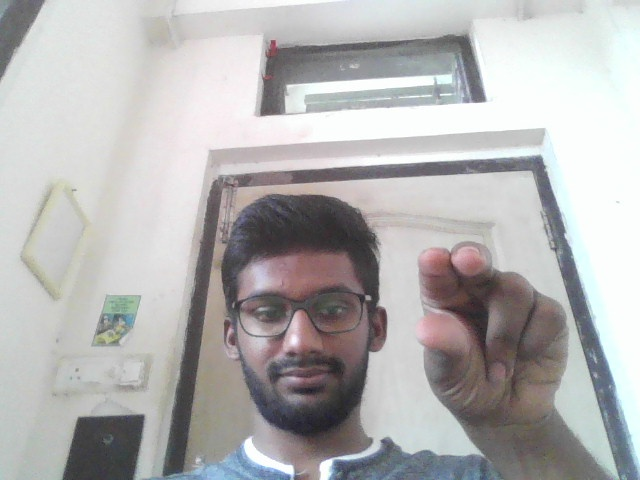No: (415, 241, 571, 428)
